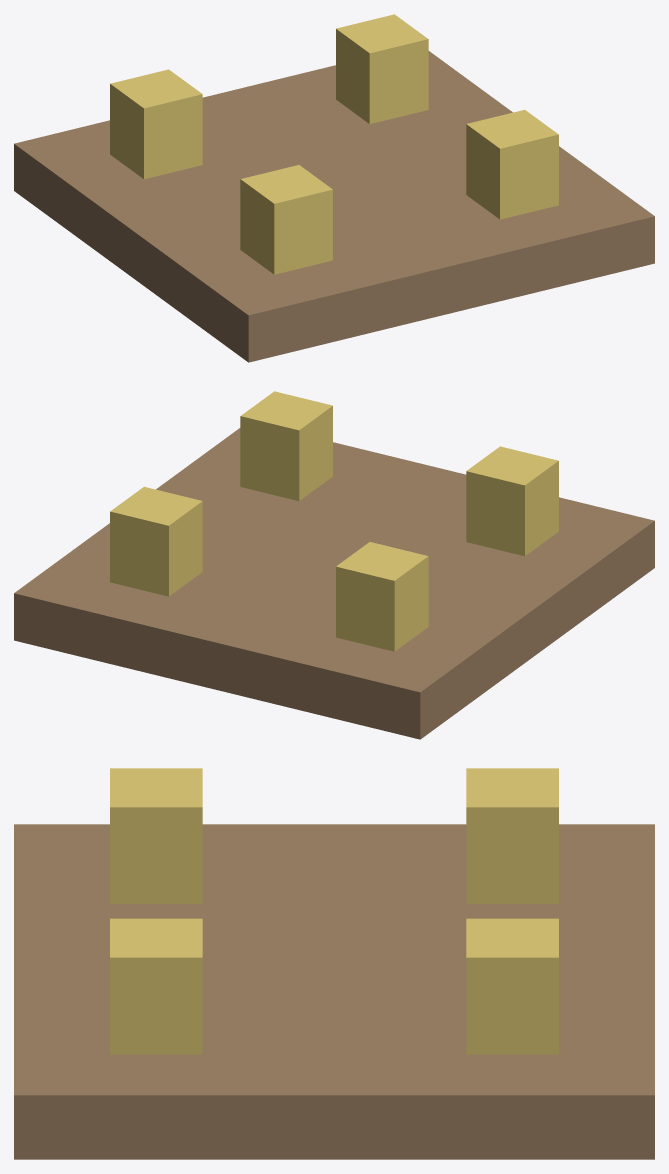
File: Prop_DS_Crop_Groat_S1_V0.glb
3 renders of one model, top to bottom at view 1: azimuth 30°, elevation 25°; view 2: azimuth 150°, elevation 25°; view 3: azimuth 270°, elevation 25°, orthographic. The views are drawn at different scales.
Parts seen in each view (by area): view 1: Cube, Cube.003, Cube.004, Cube.001, Cube.002; view 2: Cube, Cube.004, Cube.003, Cube.001, Cube.002; view 3: Cube, Cube.003, Cube.004, Cube.001, Cube.002.
Boxes of the visible parts, <box> form: Cube: <box>14,51,654,362</box>; Cube.003: <box>466,109,558,219</box>; Cube.004: <box>336,14,428,123</box>; Cube.001: <box>240,165,332,274</box>; Cube.002: <box>110,69,202,179</box>; Cube: <box>14,428,654,739</box>; Cube.004: <box>110,486,202,596</box>; Cube.003: <box>240,391,332,500</box>; Cube.001: <box>466,446,558,556</box>; Cube.002: <box>336,542,428,651</box>; Cube: <box>14,824,654,1159</box>; Cube.003: <box>110,918,202,1054</box>; Cube.004: <box>466,918,558,1054</box>; Cube.001: <box>110,768,202,903</box>; Cube.002: <box>466,768,558,903</box>.
Size of the model in its own units: 0.9 by 0.25 by 0.9.
